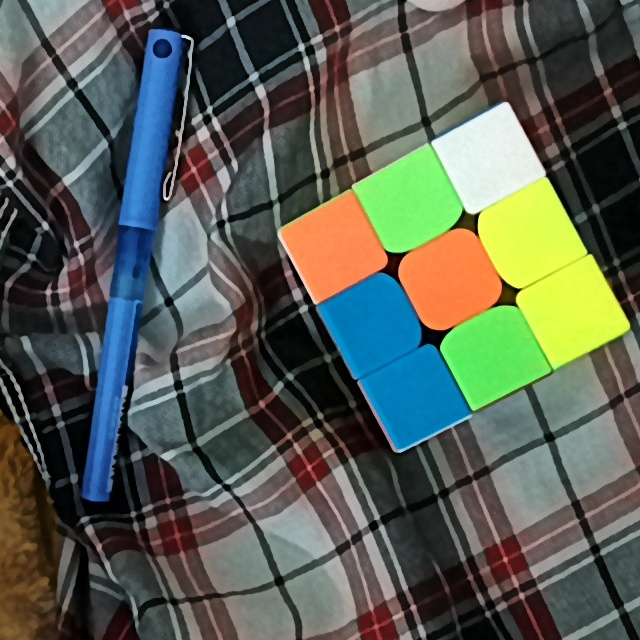tile: (417, 251, 485, 309), (538, 284, 607, 341), (493, 207, 562, 263), (455, 132, 521, 189), (378, 175, 441, 233), (341, 296, 404, 353), (466, 325, 524, 385), (384, 371, 446, 427), (308, 216, 366, 275)
